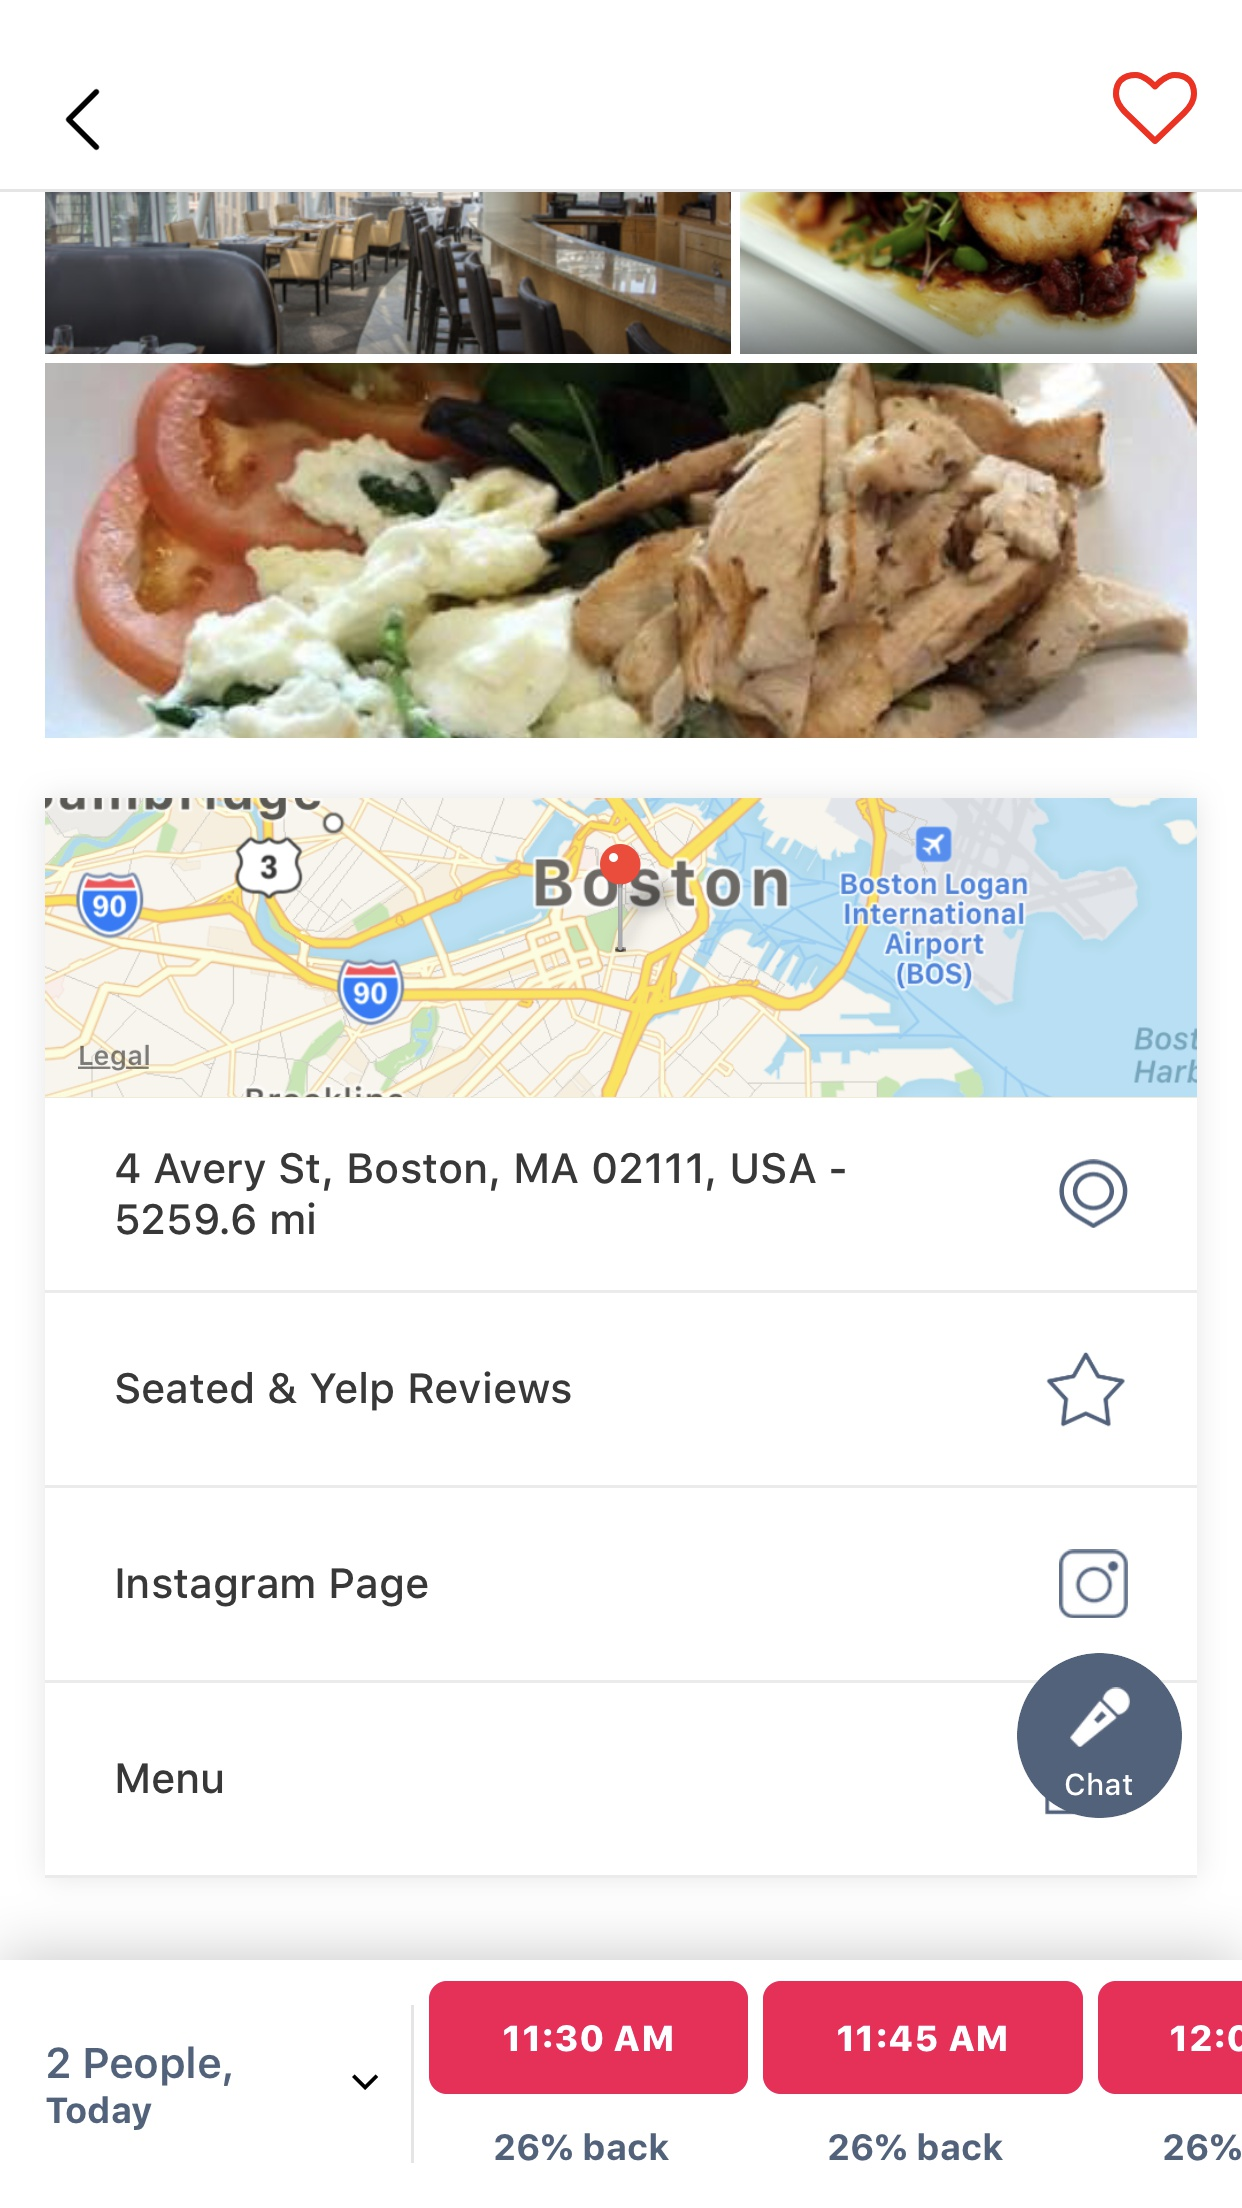Icon: (1112, 71, 1198, 146), (1046, 1353, 1127, 1427), (1059, 1159, 1128, 1228), (67, 89, 102, 152), (352, 2075, 379, 2091)
Image: (45, 362, 1197, 739), (45, 798, 1197, 1098), (45, 193, 732, 355), (740, 193, 1198, 355), (1059, 1548, 1128, 1620), (1069, 1686, 1131, 1749)
Text: (115, 1153, 846, 1236), (115, 1369, 572, 1412), (45, 2046, 234, 2131), (117, 1568, 429, 1607), (494, 2134, 670, 2163), (828, 2134, 1004, 2163), (117, 1762, 224, 1796), (1163, 2134, 1242, 2163), (1065, 1771, 1133, 1797)
TextButton: (763, 1981, 1084, 2094), (429, 1981, 749, 2094), (1096, 1981, 1242, 2094)
